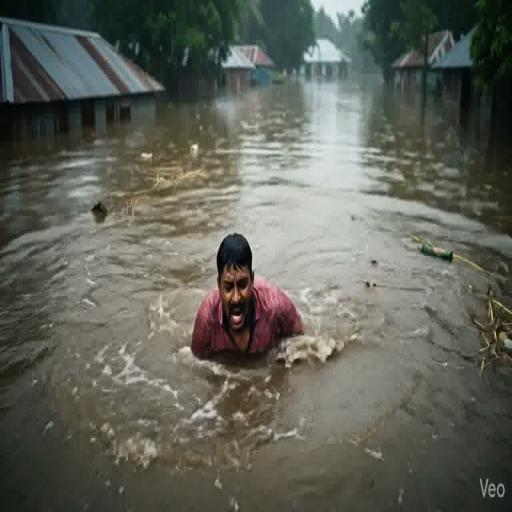human: (192, 233, 303, 358)
